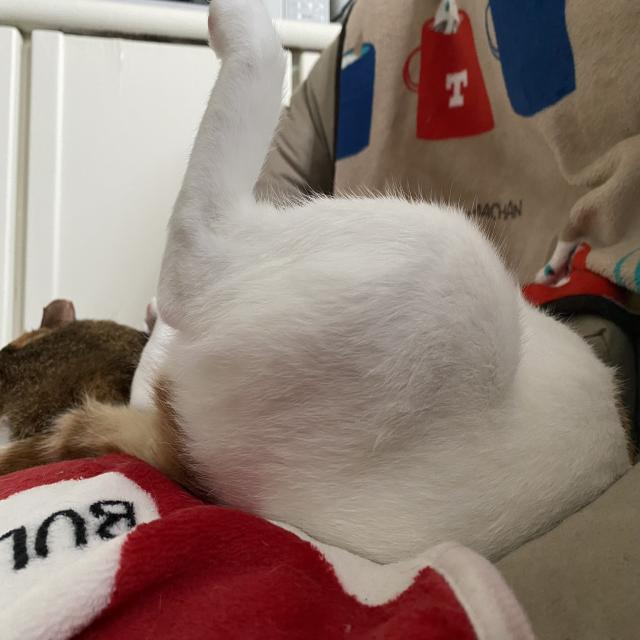cat1: (119, 1, 640, 572)
